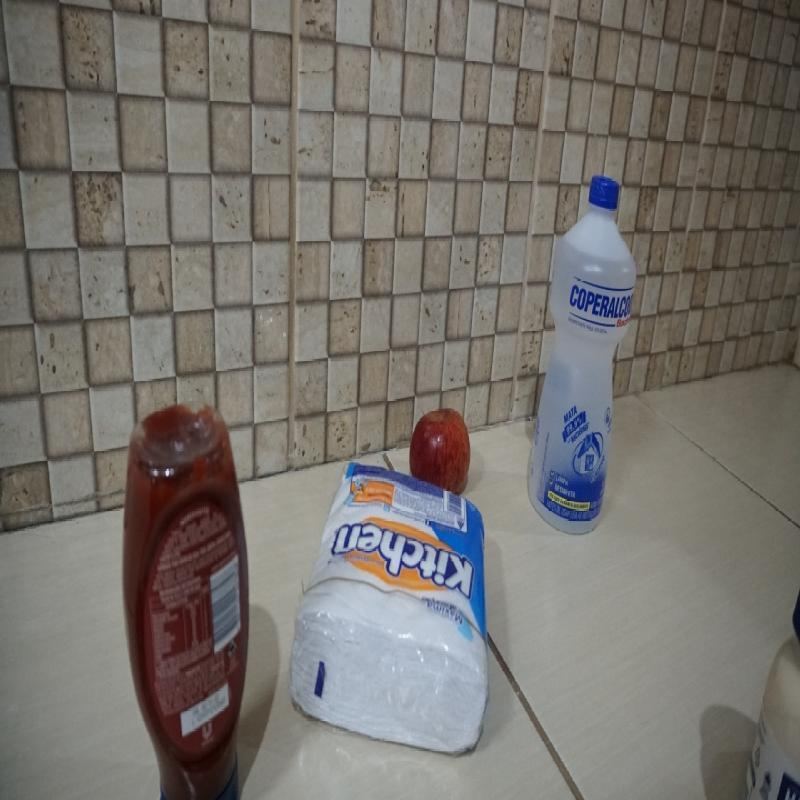Alcohol Bottle: (527, 174, 638, 535)
Apple: (407, 408, 472, 494)
Ketchup: (123, 400, 252, 800)
Mayonnaise: (725, 585, 800, 797)
Napkin: (289, 460, 488, 756)
